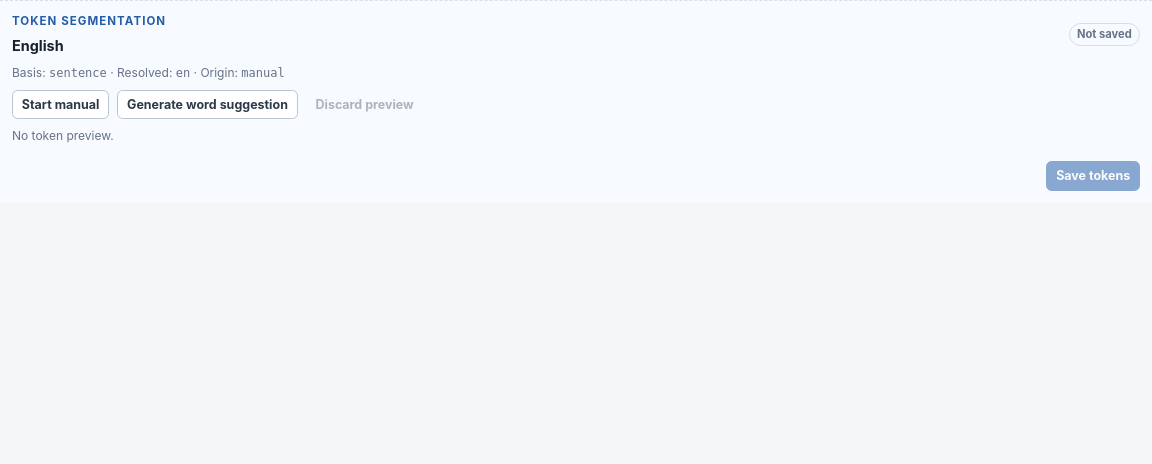
TokenSegmentationPanel › renders the stable multi-dependent conflict for lemma + POS dependents
Click the button "Start manual": click(61, 105) [12,90,109,119]
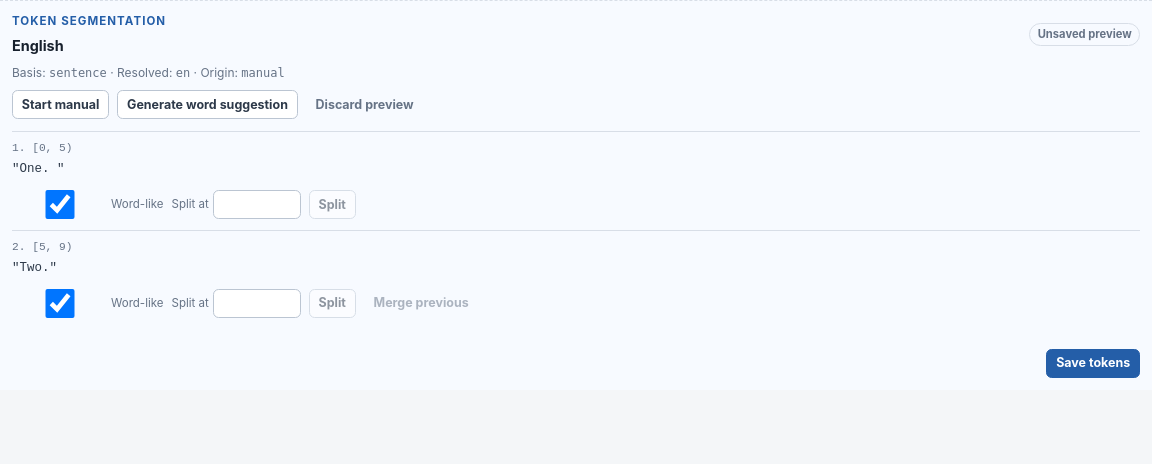
Click the button "Save tokens": click(1093, 364) [1046,349,1140,378]
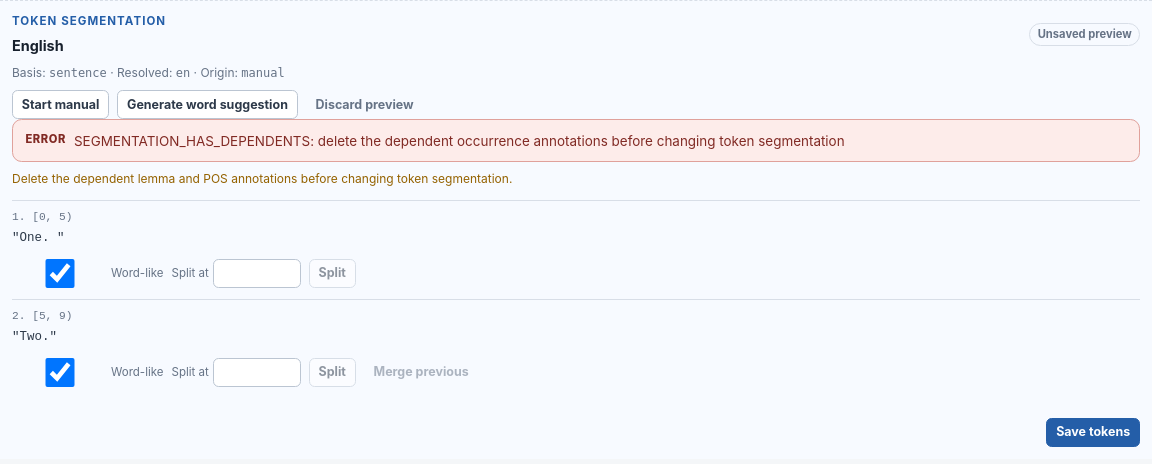
Result: the message that starts with "Error" shows "delete the dependent occurrence annotations before changing token segmentation" at [74,133,845,149]
Result: the message with class "token-annotation-dependency" shows "Delete the dependent lemma and POS annotations before changing token segmentation." at [12,171,512,186]
